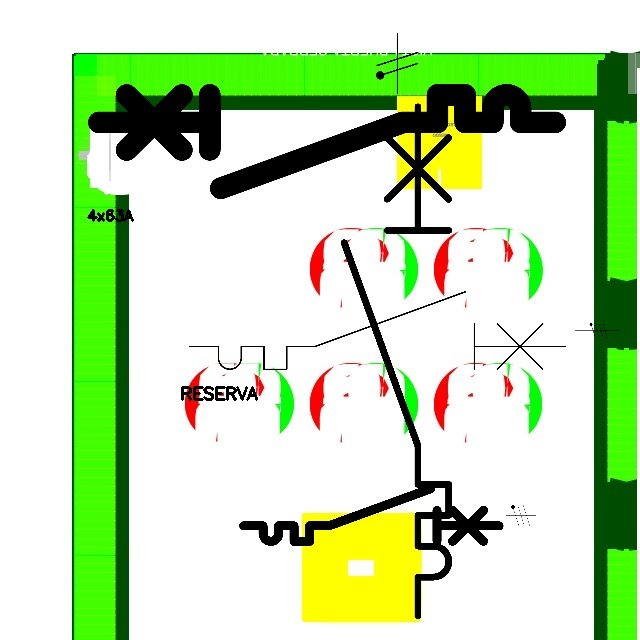interruptor_termomagnetico: (331, 93, 462, 629), (87, 83, 567, 200), (180, 282, 575, 379), (237, 482, 506, 548)
